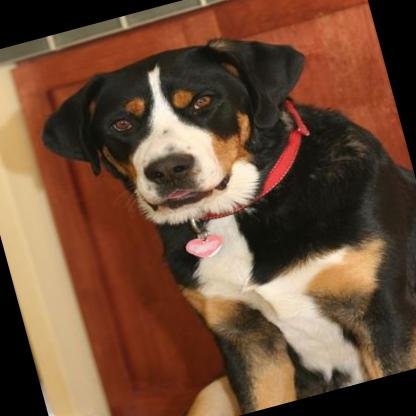Greater_Swiss_Mountain_dog: (24, 0, 416, 416)
